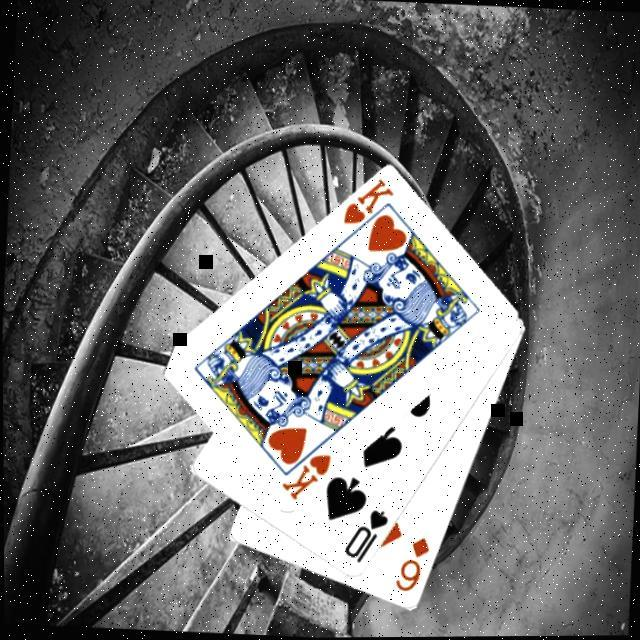10S: (338, 504, 390, 566)
6D: (388, 532, 432, 596)
KH: (336, 173, 396, 228), (275, 447, 332, 504)
